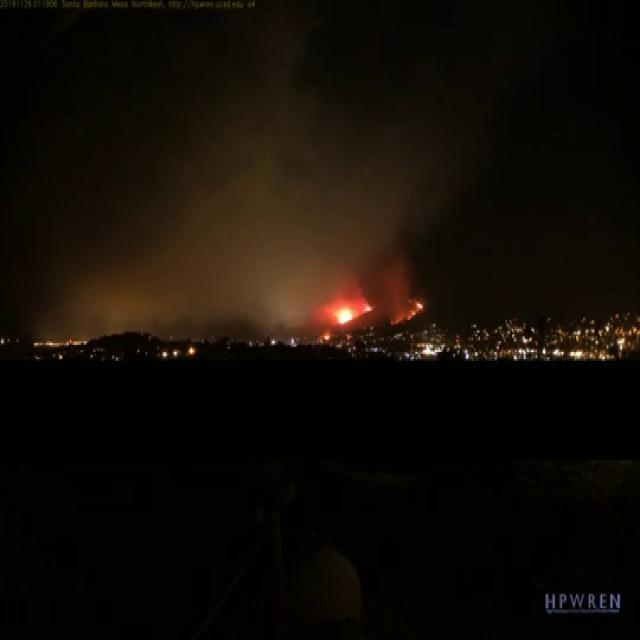Fire: (325, 297, 373, 327), (391, 295, 423, 327)
Smoke: (31, 64, 456, 331)
